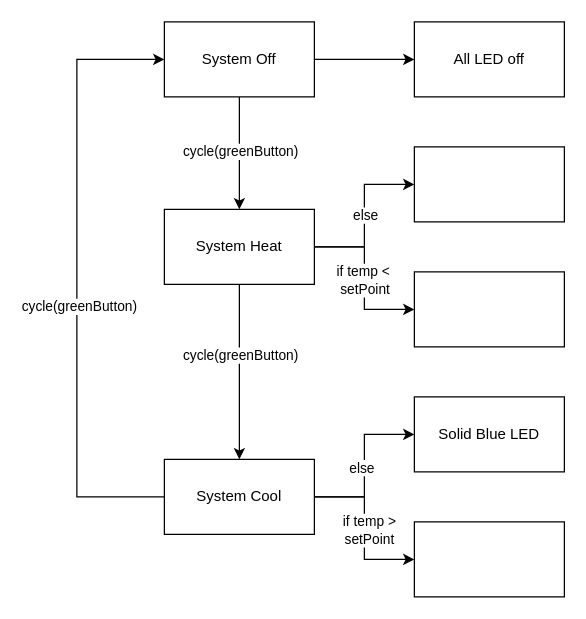
This 586x619 diagram has some shape labels left out. The shapes that lost their labels are listed below. From the top down, each one's box as (x1, y1, x2, y2) in pixels, then its label:
(413, 146, 564, 222): Solid red LED
(413, 271, 564, 347): Fading Red LED
(413, 521, 564, 597): Fading Blue LED
